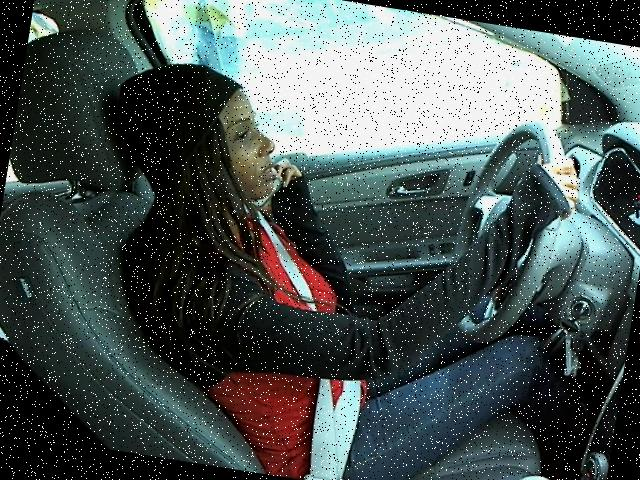c2 - Talking on the phone: (62, 42, 588, 437)
